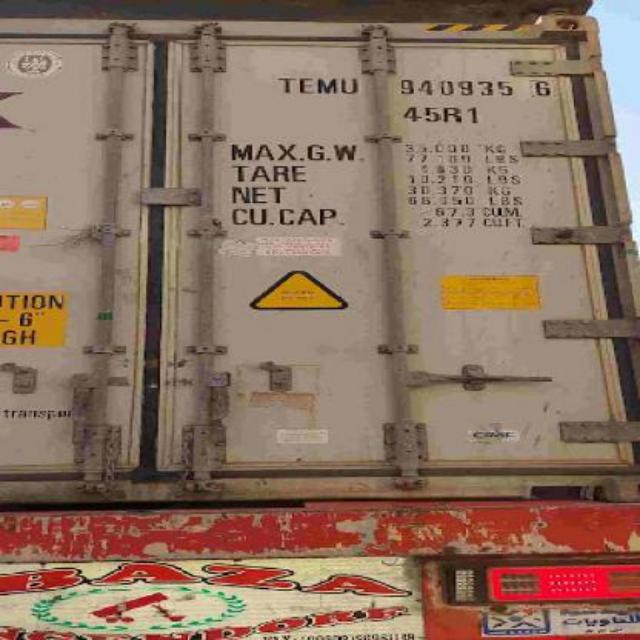0: (436, 72, 458, 96)
3: (474, 76, 496, 96)
4: (418, 73, 438, 97)
5: (496, 74, 520, 96)
6: (530, 76, 554, 98)
9: (388, 72, 416, 96), (454, 76, 478, 98)
E: (296, 70, 316, 96)
M: (314, 74, 338, 96)
T: (276, 70, 296, 96)
U: (338, 72, 362, 98)
